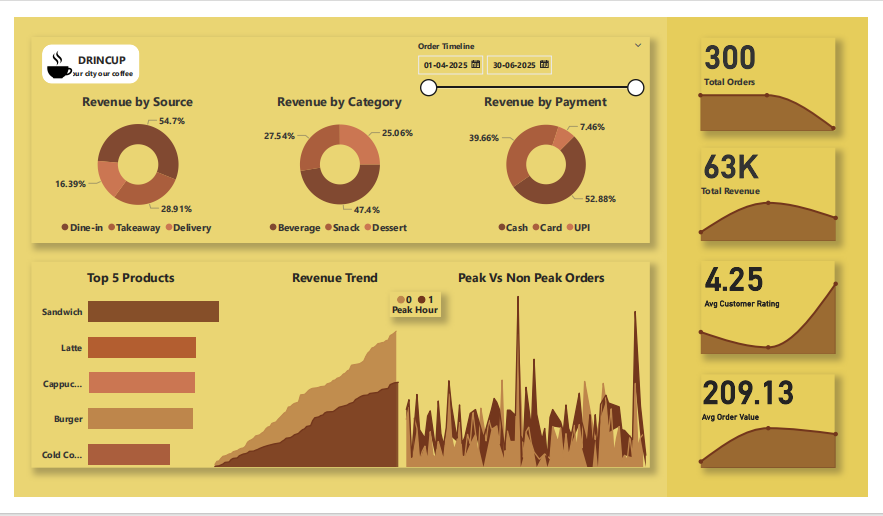

The page's visual inventory and layout, read from the dashboard file:
{"tool":"powerbi","page":{"name":"Page 1","canvas":[1280,720],"ordinal":0},"visuals":[{"type":"shape","box":[25.6,366.7,927.8,308.9],"z":0},{"type":"shape","box":[25.6,30,927.8,308.9],"z":1000},{"type":"lineChart","title":"Revenue Trend","fields":{"Category":["Sheet1.Order_Date"],"Y":["Sheet1.Cumulative Revenue"],"Series":["Sheet1.Peak_Hour_Flag"]},"box":[285.7,450,305.7,230.9],"z":2000},{"type":"barChart","title":"Top 5 Products","fields":{"Y":["Sheet1.top"],"Category":["Sheet1.Item_Name"]},"box":[24.8,391.7,295.2,308.7],"z":3000},{"type":"donutChart","title":"Revenue by Payment","fields":{"Y":["Sheet1.top"],"Category":["Sheet1.Payment_Type"]},"box":[653.3,113.3,288.3,221.7],"z":4000},{"type":"donutChart","title":"Revenue by Category","fields":{"Y":["Sheet1.top"],"Category":["Sheet1.Category"]},"box":[336,113,305,222],"z":5000},{"type":"donutChart","title":"Revenue by Source","fields":{"Category":["Sheet1.Order_Source"],"Y":["Sheet1.top"]},"box":[12,113,348,222],"z":6000},{"type":"stackedAreaChart","title":"Peak vs Non-Peak Orders","fields":{"Category":["Sheet1.Order_Date"],"Y":["Sheet1.top"],"Series":["Sheet1.Peak_Hour_Flag"]},"box":[573,367,388.7,330.4],"z":7000},{"type":"slicer","fields":{"Values":["Sheet1.Order_Date"]},"box":[574.6,30.2,360,96.5],"z":8000},{"type":"shape","box":[980,0,300,720],"z":9000},{"type":"shape","box":[1030,30.6,200.6,139.4],"z":10000},{"type":"shape","box":[1030,195.6,200.6,139.4],"z":11000},{"type":"shape","box":[1030,366.2,200.5,139],"z":12000},{"type":"shape","box":[1030,536.2,200.5,139],"z":13000},{"type":"card","fields":{"Values":["Sheet1.Total Orders"]},"box":[961.2,0,225,126.2],"z":14000},{"type":"lineChart","fields":{"Category":["DateTable.Date.Variation.Date Hierarchy.Month"],"Y":["Sheet1.Total Orders"]},"box":[984.4,100.4,288.4,75.2],"z":15000},{"type":"card","fields":{"Values":["Sheet1.total Reveneeue"]},"box":[1007.5,171.2,132.5,111.2],"z":16000},{"type":"lineChart","fields":{"Category":["DateTable.Date.Variation.Date Hierarchy.Month"],"Y":["Sheet1.total Reveneeue"]},"box":[984.3,252.4,292.4,87.1],"z":17000},{"type":"lineChart","fields":{"Category":["DateTable.Date.Variation.Date Hierarchy.Month"],"Y":["Sheet1.Average Customer Rating"]},"box":[984.4,360,292.4,150],"z":18000},{"type":"lineChart","fields":{"Category":["DateTable.Date.Variation.Date Hierarchy.Month"],"Y":["Sheet1.Average Order Value"]},"box":[984.4,582,292.4,98.8],"z":19000},{"type":"textbox","box":[1030,360,125,101.2],"z":20000},{"type":"textbox","box":[1026.2,530,160,101.2],"z":21000},{"type":"textbox","box":[105,372,300,63],"z":22000},{"type":"textbox","box":[411.7,371.7,300,38.3],"z":23000},{"type":"shape","box":[563.3,412.1,76.7,37.9],"z":24000},{"type":"textbox","box":[661,372,300,43],"z":25000},{"type":"shape","box":[574.1,417.6,12.1,12.1],"z":26000},{"type":"textbox","box":[583.5,407.6,18.2,33.5],"z":27000},{"type":"textbox","box":[617.1,407.6,17.9,32.1],"z":28000},{"type":"shape","box":[605,417.6,12.1,12.1],"z":29000},{"type":"textbox","box":[561.6,424.1,91.9,33.4],"z":30000},{"type":"shape","box":[42.4,41.4,145.2,59],"z":31000},{"type":"textbox","box":[50.5,48.1,164.8,61],"z":32000},{"type":"image","box":[41,44.8,52.9,52.4],"z":33000}]}

Visuals, with their boxes on the page's 1280x720 design canvas (x1, y1, x2, y2). These are canvas units, not pixel positions in the 883x516 screenshot, which may show the page scaled, cropped or inside an application window:
shape: (26, 367, 953, 676)
shape: (26, 30, 953, 339)
"Revenue Trend" lineChart: (286, 450, 591, 681)
"Top 5 Products" barChart: (25, 392, 320, 700)
"Revenue by Payment" donutChart: (653, 113, 942, 335)
"Revenue by Category" donutChart: (336, 113, 641, 335)
"Revenue by Source" donutChart: (12, 113, 360, 335)
"Peak vs Non-Peak Orders" stackedAreaChart: (573, 367, 962, 697)
slicer - Sheet1.Order_Date: (575, 30, 935, 127)
shape: (980, 0, 1280, 720)
shape: (1030, 31, 1231, 170)
shape: (1030, 196, 1231, 335)
shape: (1030, 366, 1230, 505)
shape: (1030, 536, 1230, 675)
card - Sheet1.Total Orders: (961, 0, 1186, 126)
lineChart - DateTable.Date.Variation.Date Hierarchy.Month x Sheet1.Total Orders: (984, 100, 1273, 176)
card - Sheet1.total Reveneeue: (1008, 171, 1140, 282)
lineChart - DateTable.Date.Variation.Date Hierarchy.Month x Sheet1.total Reveneeue: (984, 252, 1277, 340)
lineChart - DateTable.Date.Variation.Date Hierarchy.Month x Sheet1.Average Customer Rating: (984, 360, 1277, 510)
lineChart - DateTable.Date.Variation.Date Hierarchy.Month x Sheet1.Average Order Value: (984, 582, 1277, 681)
textbox: (1030, 360, 1155, 461)
textbox: (1026, 530, 1186, 631)
textbox: (105, 372, 405, 435)
textbox: (412, 372, 712, 410)
shape: (563, 412, 640, 450)
textbox: (661, 372, 961, 415)
shape: (574, 418, 586, 430)
textbox: (584, 408, 602, 441)
textbox: (617, 408, 635, 440)
shape: (605, 418, 617, 430)
textbox: (562, 424, 654, 458)
shape: (42, 41, 188, 100)
textbox: (50, 48, 215, 109)
image: (41, 45, 94, 97)
